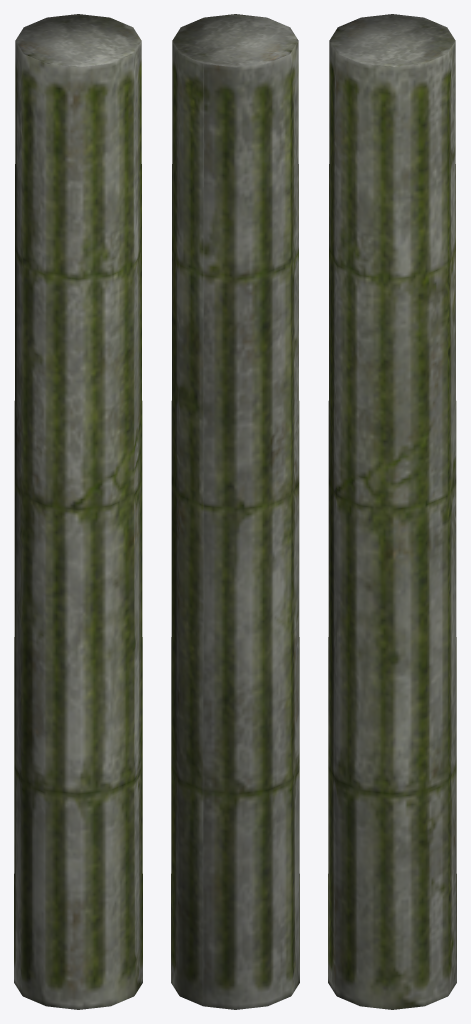
Rendered from pillar_type004.FBX.
3 views of the same model, side by side, from view 1: azimuth 30°, elevation 25°; view 2: azimuth 150°, elevation 25°; view 3: azimuth 330°, elevation 25° (orthographic).
Parts seen in each view (by area): view 1: pillar_type004; view 2: pillar_type004; view 3: pillar_type004.
Part boxes in pixels (x1=…): pillar_type004: x1=14, y1=14, x2=142, y2=1009; pillar_type004: x1=171, y1=14, x2=299, y2=1009; pillar_type004: x1=328, y1=14, x2=456, y2=1009.
Size of the model in its own units: 119 by 963 by 119.
